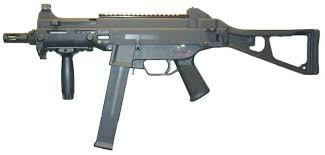gun: (1, 2, 320, 150)
